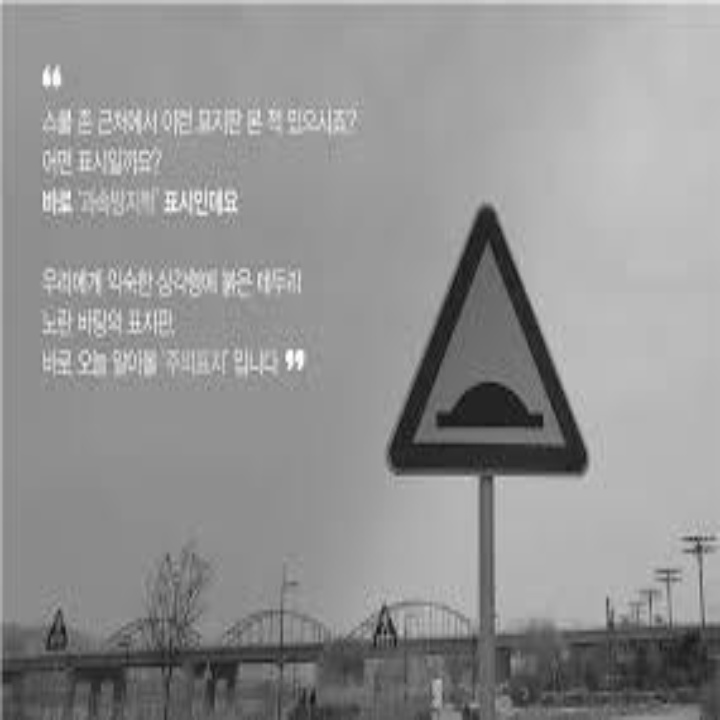bump: (414, 378, 562, 460)
